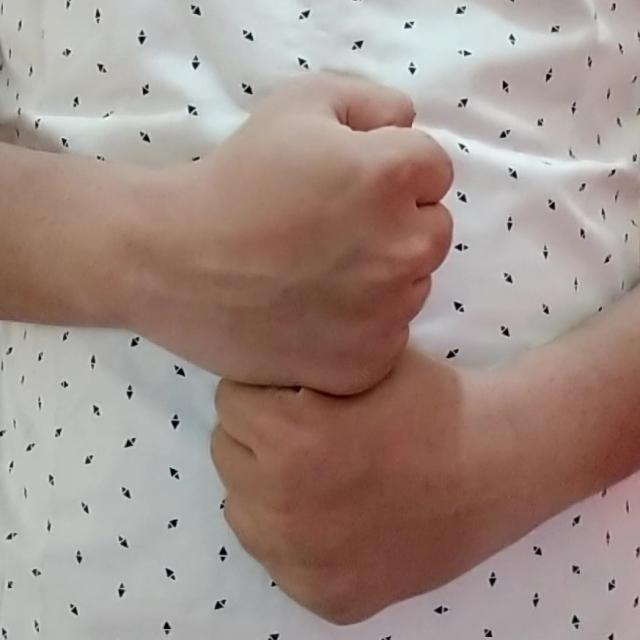G: (161, 68, 500, 628)
